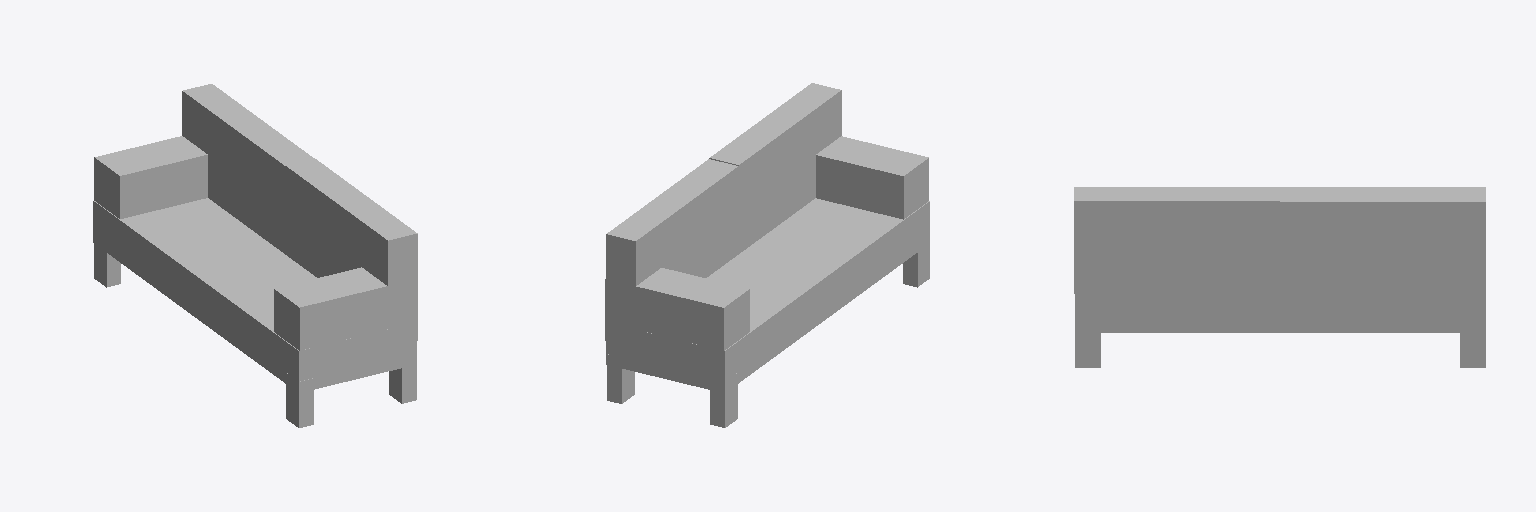
File: couch.obj
3 renders of one model, left to right at view 1: azimuth 30°, elevation 25°; view 2: azimuth 150°, elevation 25°; view 3: azimuth 270°, elevation 25°, orthographic.
Parts seen in each view (by area): view 1: Cube.008; view 2: Cube.008; view 3: Cube.008.
Boxes of the visible parts, box(x1,y1,x2,y2) form: Cube.008: box(93, 84, 417, 427); Cube.008: box(605, 83, 929, 427); Cube.008: box(1074, 187, 1485, 367).
Size of the model in its own units: 4.03 by 5.38 by 12.02.